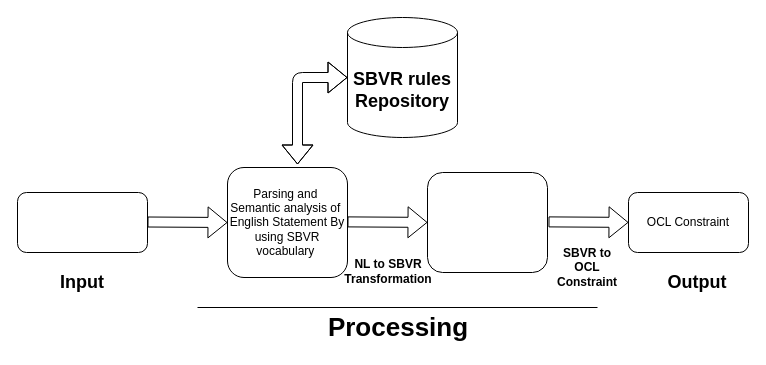
Some shapes in this 766 by 365 pixel diagram are drawn without their labels. Each missing label, with the centre of its shape:
"English Statement (NL User Interface)" belongs at point (82, 222).
"parsed and semantic sentence give SBVR transformation" belongs at point (487, 222).
